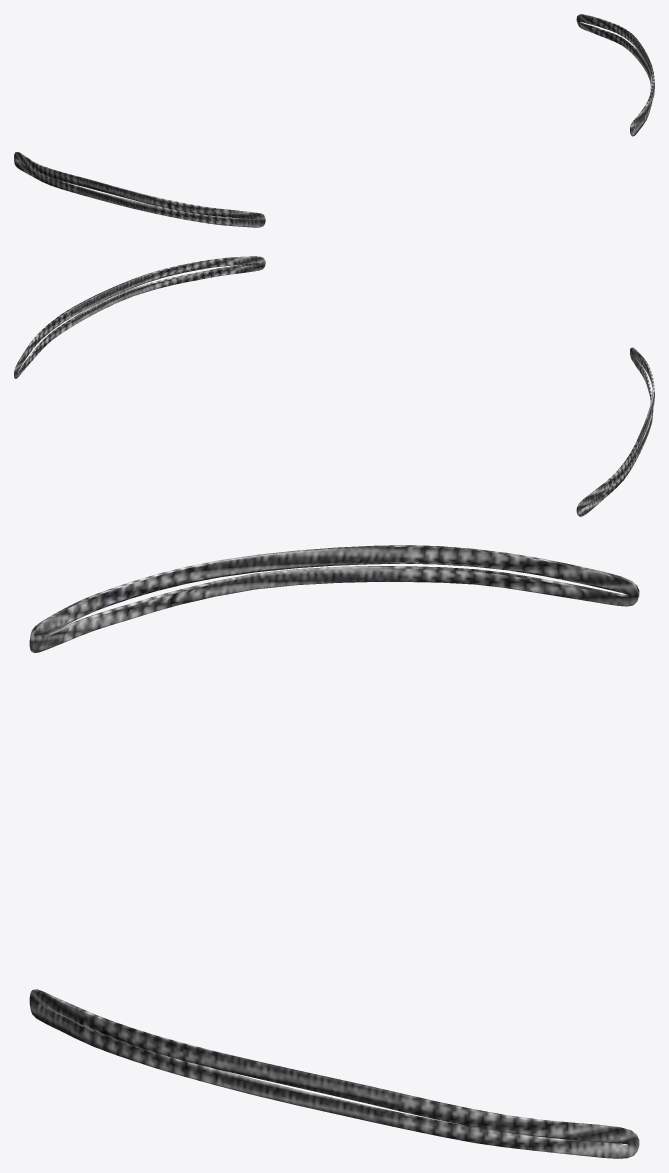
The model's file is Besom_Pocket.glb.
3 views of the same model, one above another, from view 1: azimuth 30°, elevation 25°; view 2: azimuth 150°, elevation 25°; view 3: azimuth 270°, elevation 25° (orthographic). The views are drawn at different scales.
Visible parts, largest first — view 1: Besom_Pocket; view 2: Besom_Pocket; view 3: Besom_Pocket.
Part boxes in pixels (box(x1,y1,x2,y2)): Besom_Pocket: box(14, 14, 654, 227); Besom_Pocket: box(14, 256, 654, 516); Besom_Pocket: box(29, 545, 639, 1158).
Size of the model in its own units: 0.0447 by 0.00284 by 0.0204.
1 material, 1 textured.
